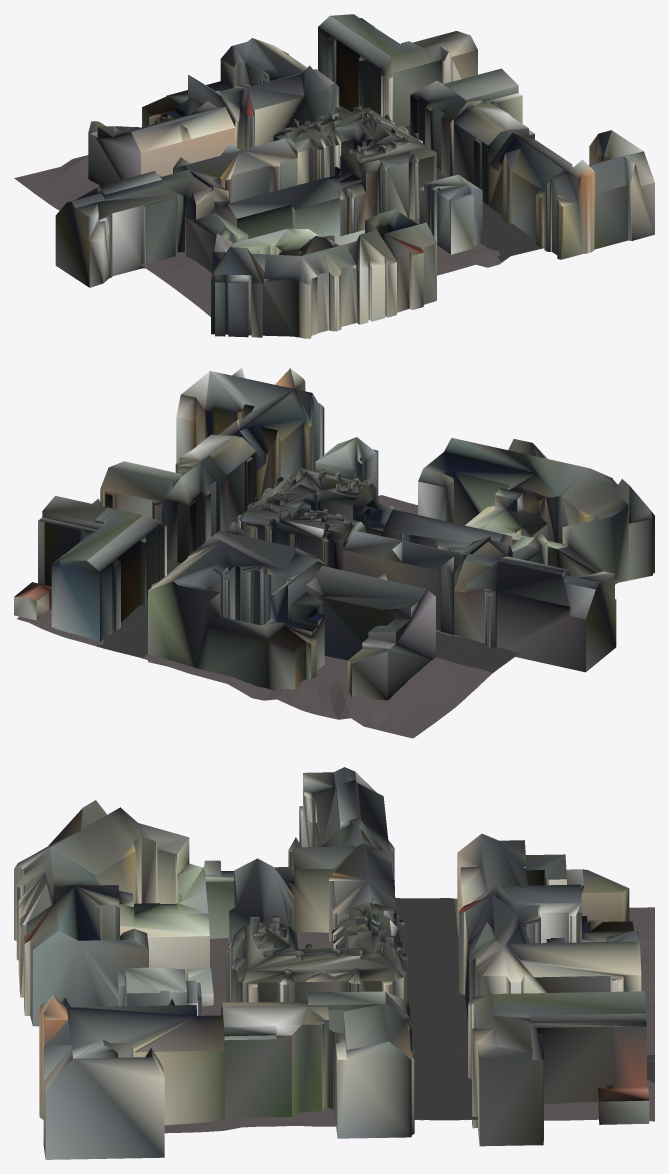
3 views of the same model, one above another, from view 1: azimuth 30°, elevation 25°; view 2: azimuth 150°, elevation 25°; view 3: azimuth 270°, elevation 25° (orthographic). The views are drawn at different scales.
Visible parts, largest first — view 1: c_p05_p01; view 2: c_p05_p01; view 3: c_p05_p01.
Boxes of the visible parts, x1,y1,x2,y2 form: c_p05_p01: [14, 14, 654, 338]; c_p05_p01: [14, 367, 654, 738]; c_p05_p01: [14, 767, 654, 1159].
Bounding box in the file's own units: 161 × 33.57 × 143.
